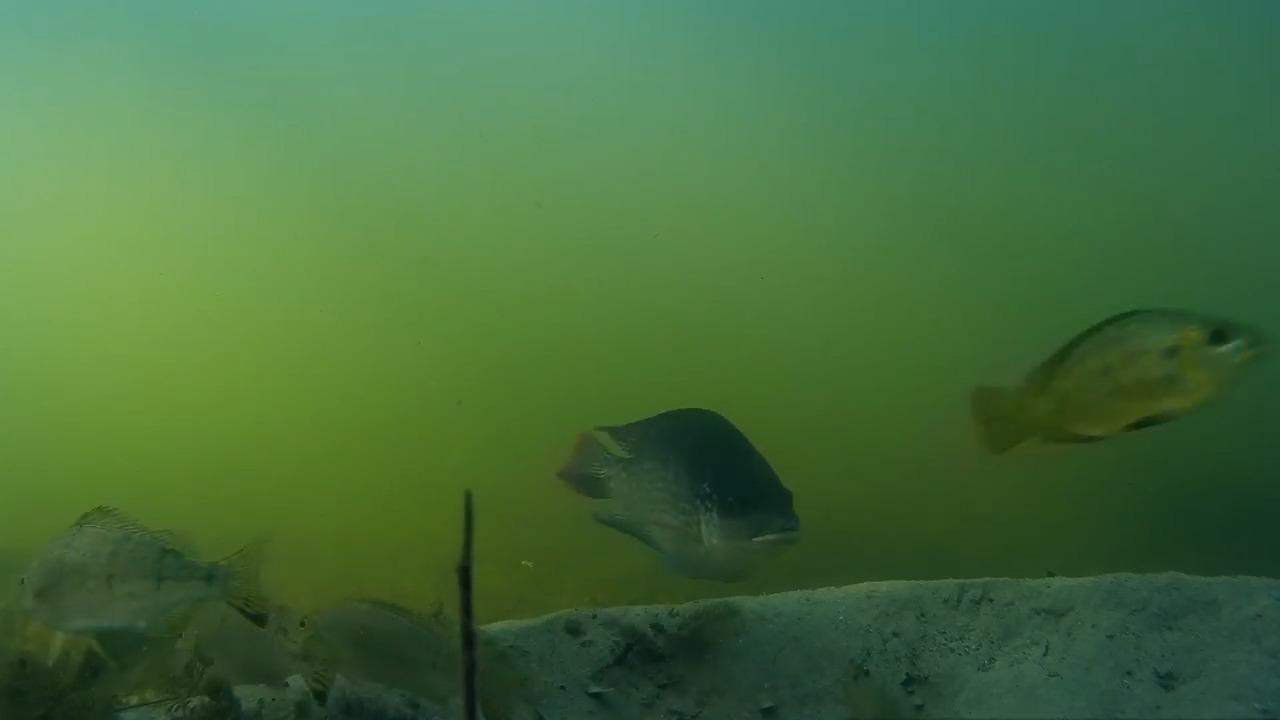Tilapia: (18, 500, 298, 685), (967, 303, 1272, 463), (541, 403, 812, 564)
